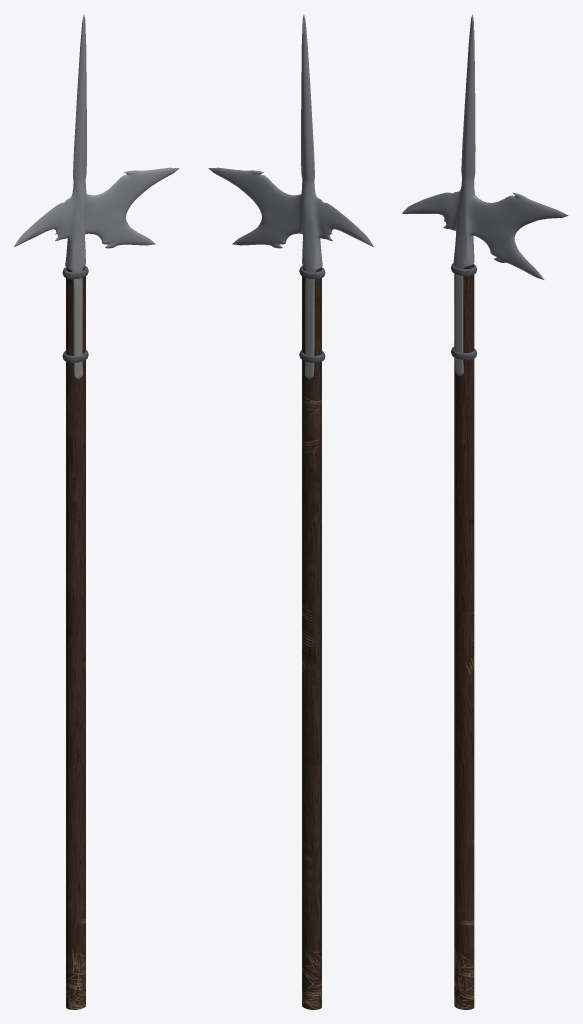
The model's file is halberd_v3.fbx.
3 renders of one model, left to right at view 1: azimuth 30°, elevation 25°; view 2: azimuth 150°, elevation 25°; view 3: azimuth 330°, elevation 25°, orthographic.
Parts seen in each view (by area): view 1: Halberd; view 2: Halberd; view 3: Halberd.
Part boxes in pixels (left/top/right/bottom): Halberd: left=14, top=14, right=179, bottom=1009; Halberd: left=208, top=14, right=373, bottom=1009; Halberd: left=402, top=14, right=568, bottom=1009.
Size of the model in its own units: 45.28 by 258 by 5.26.
1 material, 1 textured.
